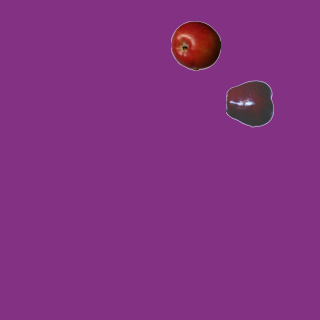Apple Braeburn: (170, 20, 220, 70)
Apple Red Delicious: (225, 78, 275, 128)
